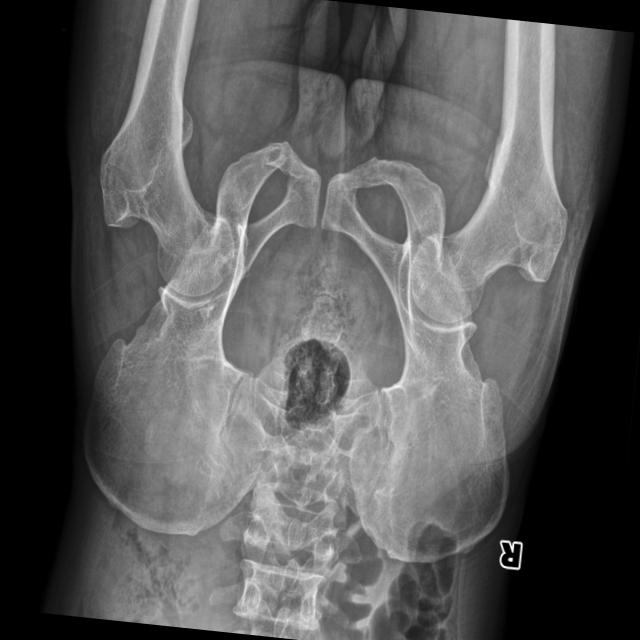normal-left: (98, 0, 232, 295)
normal-right: (410, 18, 566, 322)
